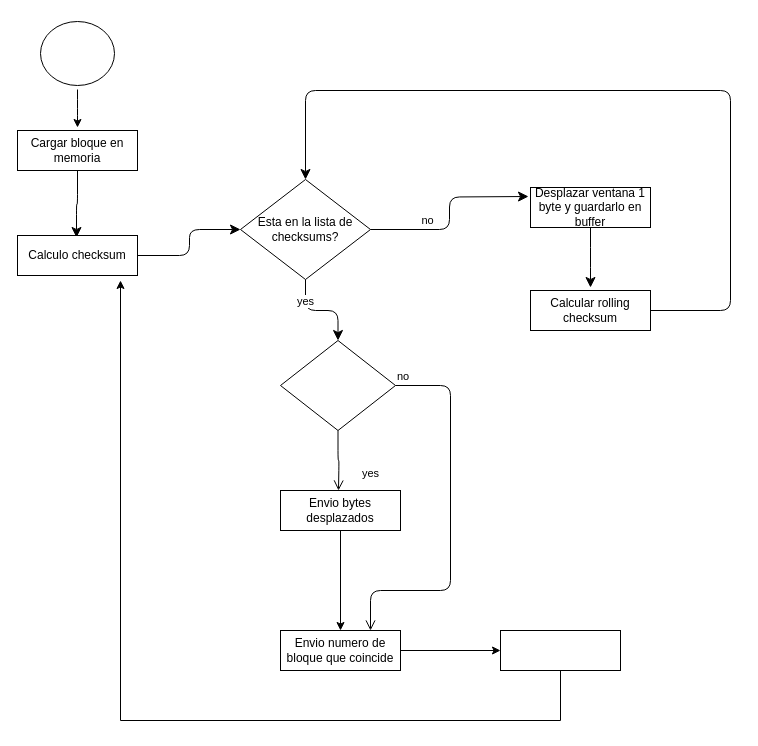
This 758x746 diagram has some shape labels left out. The shapes that lost their labels are listed below. From the top down, each one's centre as x and y in pixels, then its label:
At (x=77, y=53): "Abrir archivo remoto".
At (x=338, y=385): "Tengo bytes desplazados?".
At (x=560, y=650): "Muevo ventana un byte".
